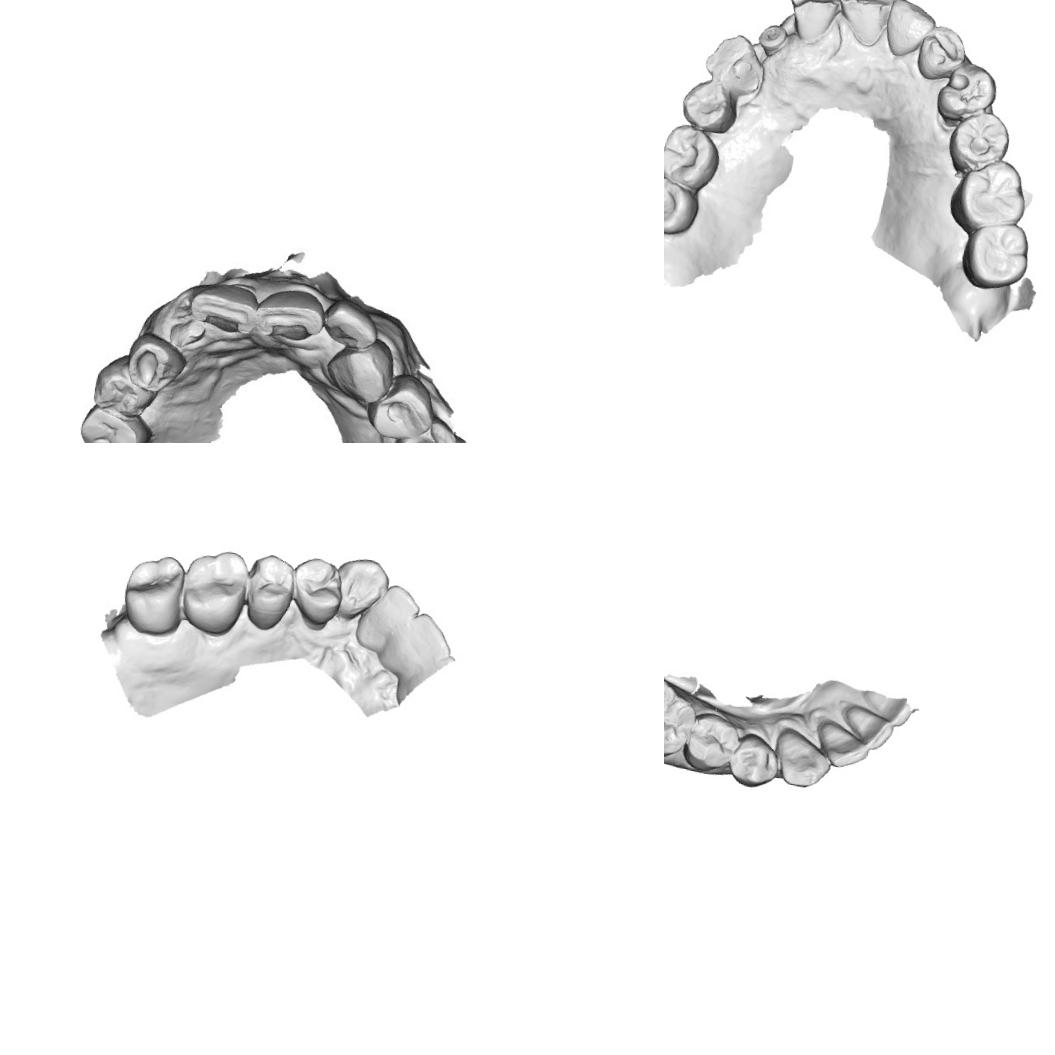canine: (325, 334, 398, 407), (700, 29, 772, 101), (768, 724, 837, 791), (125, 330, 188, 396), (332, 554, 392, 623), (913, 21, 971, 86)
implant: (754, 19, 791, 59)
incisor: (380, 606, 458, 678), (356, 578, 424, 648), (251, 287, 326, 342), (881, 0, 940, 63), (812, 714, 874, 773), (319, 297, 380, 355), (833, 0, 899, 51), (190, 285, 258, 333), (838, 702, 898, 752), (782, 0, 843, 47)
molar: (946, 154, 1034, 236), (177, 544, 252, 640), (118, 550, 189, 641), (958, 216, 1034, 296), (664, 119, 726, 195), (664, 670, 702, 763), (664, 172, 702, 238)
premolar: (944, 107, 1014, 180), (240, 550, 300, 634), (932, 57, 1001, 127), (287, 553, 348, 628), (679, 708, 745, 777), (370, 376, 436, 441), (676, 75, 742, 137), (90, 358, 154, 421), (724, 728, 785, 792), (76, 401, 151, 443), (390, 419, 458, 443)
